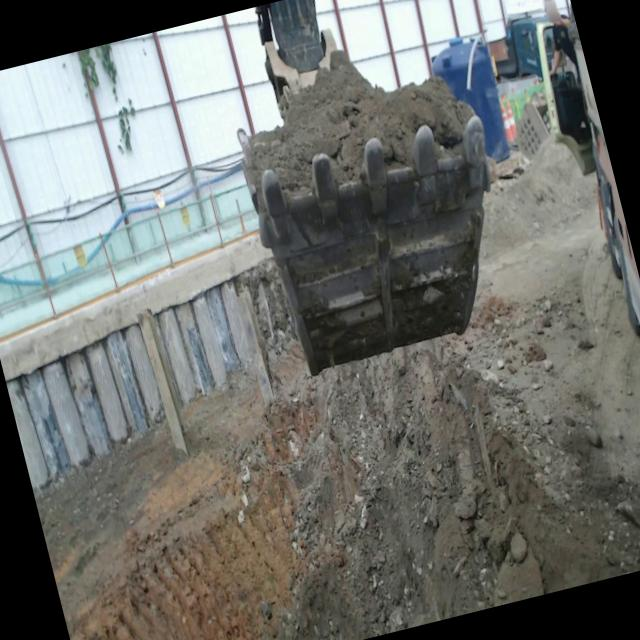white-sand: (35, 146, 640, 640), (244, 51, 473, 198)
